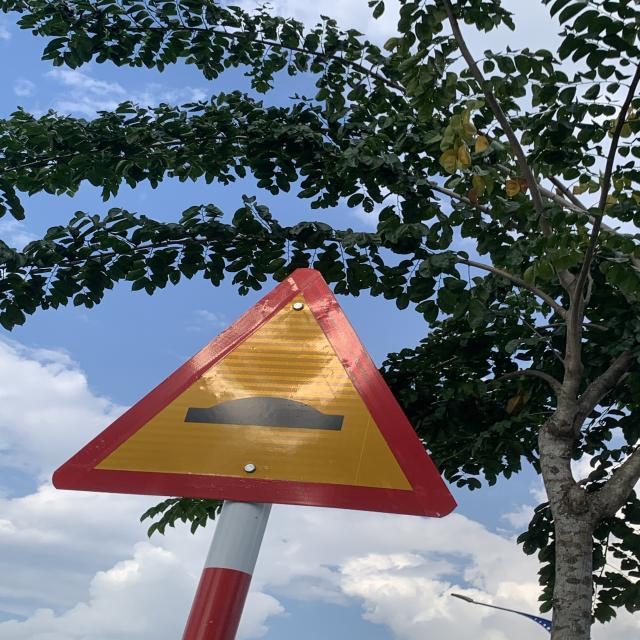Duong_Cong_Ben_Phai: (54, 266, 455, 516)
